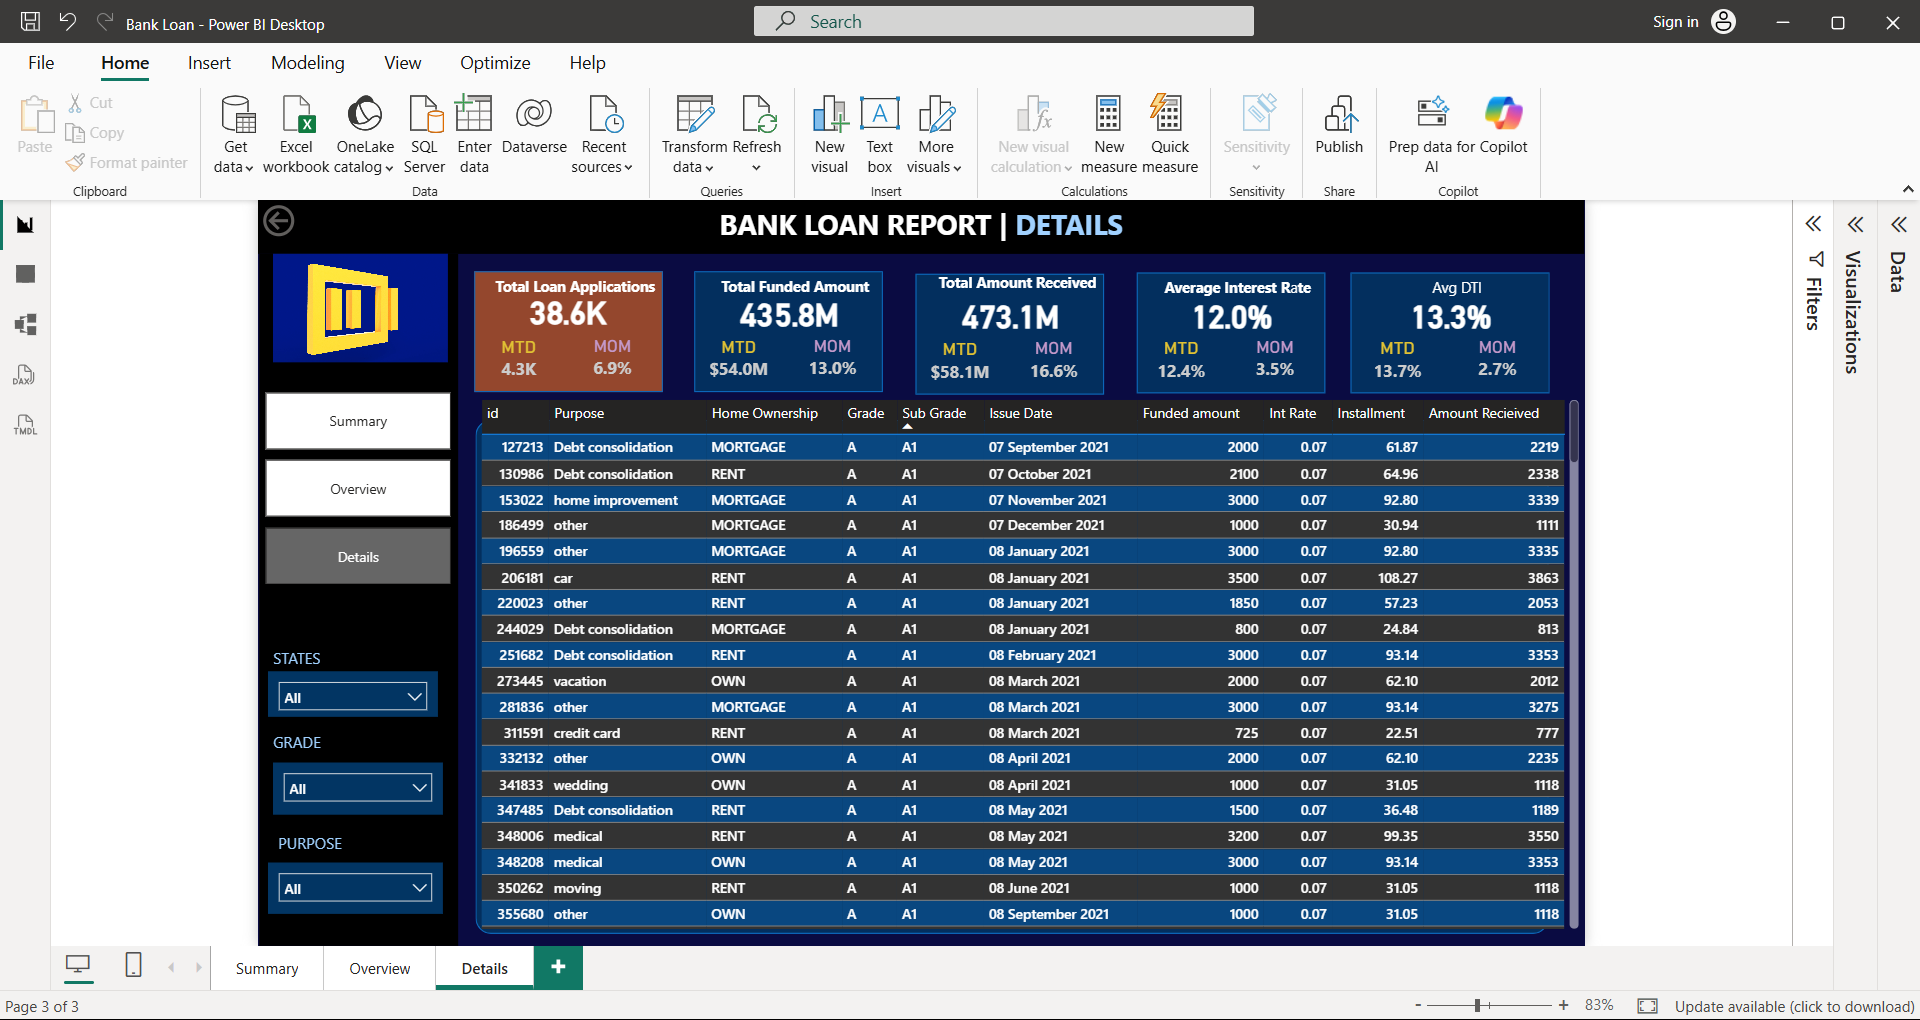

Layout of this report page (visuals, bound fields, positions):
{"tool":"powerbi","page":{"name":"Details","canvas":[1280,720],"ordinal":2},"visuals":[{"type":"shape","box":[0,0,1280.3,52.1],"z":0},{"type":"shape","box":[208.6,68.6,182,116.6],"z":0,"group":"g1"},{"type":"shape","box":[421.6,68.6,182,116.6],"z":0,"group":"g2"},{"type":"shape","box":[847.7,70,182,116.6],"z":0,"group":"g4"},{"type":"shape","box":[1053.9,70,192.3,116.6],"z":0,"group":"g5"},{"type":"shape","box":[634.7,71.4,182,116.6],"z":0,"group":"g3"},{"type":"shape","box":[1.4,52.1,192.1,668.3],"z":1000},{"type":"card","fields":{"Values":["bank_loan_data.Total Loan Applications"]},"box":[234.2,75.5,130.8,63.1],"z":1000,"group":"g1"},{"type":"card","fields":{"Values":["bank_loan_data.TOTAL FUNDED AMOUNT"]},"box":[442.7,81.5,142.7,54.9],"z":1000,"group":"g2"},{"type":"card","fields":{"Values":["bank_loan_data.AVG INTEREST RATE"]},"box":[868.8,82.9,142.7,54.9],"z":1000,"group":"g4"},{"type":"card","fields":{"Values":["bank_loan_data.Total Funded Amount"]},"box":[1076.2,82.9,150.8,54.9],"z":1000,"group":"g5"},{"type":"card","fields":{"Values":["bank_loan_data.TOTAL RECIEVED AMOUNT"]},"box":[655.8,84.2,142.7,54.9],"z":1000,"group":"g3"},{"type":"textbox","box":[629.1,65.6,208.9,35],"z":2000,"group":"g3"},{"type":"group","id":"g1","title":"Group 1","box":[208.6,68.6,194.9,116.6],"z":2000},{"type":"textbox","box":[208.6,68.6,194.9,38.4],"z":2000,"group":"g1"},{"type":"textbox","box":[421.6,68.6,194.9,38.4],"z":2000,"group":"g2"},{"type":"textbox","box":[847.7,70,194.9,38.4],"z":2000,"group":"g4"},{"type":"textbox","box":[1053.9,70,205.8,38.4],"z":2000,"group":"g5"},{"type":"group","id":"g2","title":"Group 1","box":[421.6,68.6,194.9,116.6],"z":3000},{"type":"card","title":"MTD","fields":{"Values":["bank_loan_data.MTD LOAN APPLICATIONS"]},"box":[208.6,131.7,85.9,45.3],"z":3000,"group":"g1"},{"type":"card","title":"MTD","fields":{"Values":["bank_loan_data.MTD FUNDED AMOUNT"]},"box":[421.6,131.7,85.9,45.3],"z":3000,"group":"g2"},{"type":"card","title":"MTD","fields":{"Values":["bank_loan_data.MTD AVG INT RATE"]},"box":[847.7,133.1,85.9,45.3],"z":3000,"group":"g4"},{"type":"card","title":"MTD","fields":{"Values":["bank_loan_data.MTD AVG DTI"]},"box":[1053.9,133.1,90.7,45.3],"z":3000,"group":"g5"},{"type":"card","title":"MTD","fields":{"Values":["bank_loan_data.MTD TOTAL Recieved  AMOUNT"]},"box":[634.7,134.5,85.9,45.3],"z":3000,"group":"g3"},{"type":"group","id":"g3","title":"Group 1","box":[629.1,65.6,208.9,122.4],"z":4000},{"type":"card","title":"MOM","fields":{"Values":["bank_loan_data.MOM LOAN APPLICATIONS"]},"box":[299.6,130.3,85.9,45.3],"z":4000,"group":"g1"},{"type":"card","title":"MOM","fields":{"Values":["bank_loan_data.MOM FUNDED AMOUNT"]},"box":[512.6,130.3,85.9,45.3],"z":4000,"group":"g2"},{"type":"card","title":"MOM","fields":{"Values":["bank_loan_data.MOM AVG INT T"]},"box":[938.7,131.7,85.9,45.3],"z":4000,"group":"g4"},{"type":"card","title":"MOM","fields":{"Values":["bank_loan_data.MOM AVG DTI"]},"box":[1150,131.7,90.7,45.3],"z":4000,"group":"g5"},{"type":"card","title":"MOM","fields":{"Values":["bank_loan_data.MOM received AMOUNT"]},"box":[725.7,133.1,85.9,45.3],"z":4000,"group":"g3"},{"type":"group","id":"g4","title":"Group 1","box":[847.7,70,194.9,116.6],"z":5000},{"type":"group","id":"g5","title":"Group 1","box":[1053.9,70,205.8,116.6],"z":6000},{"type":"actionButton","box":[0,0,100,40],"z":7000},{"type":"slicer","fields":{"Values":["bank_loan_data.address_state"]},"box":[9.6,455,164,43.7],"z":8000},{"type":"textbox","box":[9.6,427.7,87.4,49.2],"z":9000},{"type":"textbox","box":[9.7,507.9,103.8,45.8],"z":10000},{"type":"shape","box":[210.4,211.8,1035.7,496],"z":11000},{"type":"slicer","fields":{"Values":["bank_loan_data.grade"]},"box":[15,542.4,164,50.6],"z":12000},{"type":"slicer","fields":{"Values":["bank_loan_data.purpose"]},"box":[9.6,639.5,168.8,49.4],"z":13000},{"type":"textbox","box":[14.5,605.6,85.7,49.5],"z":14000},{"type":"tableEx","fields":{"Values":["bank_loan_data.id","bank_loan_data.purpose","bank_loan_data.home_ownership","bank_loan_data.grade","bank_loan_data.sub_grade","bank_loan_data.issue_date","bank_loan_data.Total funded amount","Sum(bank_loan_data.int_rate)","Sum(bank_loan_data.installment)","bank_loan_data.Total Received Amount"]},"box":[209.9,112.2,1037.5,486.2],"z":15000},{"type":"pageNavigator","box":[7.2,185.8,179.8,187],"z":16000},{"type":"textbox","box":[440.5,0,481.6,52.1],"z":17000},{"type":"image","box":[14.5,51.9,168.9,105],"z":18000}]}

Visuals, with their boxes on the page's 1280x720 design canvas (x1, y1, x2, y2). These are canvas units, not pixel positions in the 1920x1020 screenshot, which may show the page scaled, cropped or inside an application window:
shape: 0 0 1280 52
shape: 209 69 391 185
shape: 422 69 604 185
shape: 848 70 1030 187
shape: 1054 70 1246 187
shape: 635 71 817 188
shape: 1 52 194 720
card - bank_loan_data.Total Loan Applications: 234 76 365 139
card - bank_loan_data.TOTAL FUNDED AMOUNT: 443 82 585 136
card - bank_loan_data.AVG INTEREST RATE: 869 83 1012 138
card - bank_loan_data.Total Funded Amount: 1076 83 1227 138
card - bank_loan_data.TOTAL RECIEVED AMOUNT: 656 84 798 139
textbox: 629 66 838 101
"Group 1" group: 209 69 404 185
textbox: 209 69 404 107
textbox: 422 69 616 107
textbox: 848 70 1043 108
textbox: 1054 70 1260 108
"Group 1" group: 422 69 616 185
"MTD" card: 209 132 294 177
"MTD" card: 422 132 508 177
"MTD" card: 848 133 934 178
"MTD" card: 1054 133 1145 178
"MTD" card: 635 134 721 180
"Group 1" group: 629 66 838 188
"MOM" card: 300 130 386 176
"MOM" card: 513 130 598 176
"MOM" card: 939 132 1025 177
"MOM" card: 1150 132 1241 177
"MOM" card: 726 133 812 178
"Group 1" group: 848 70 1043 187
"Group 1" group: 1054 70 1260 187
actionButton: 0 0 100 40
slicer - bank_loan_data.address_state: 10 455 174 499
textbox: 10 428 97 477
textbox: 10 508 114 554
shape: 210 212 1246 708
slicer - bank_loan_data.grade: 15 542 179 593
slicer - bank_loan_data.purpose: 10 640 178 689
textbox: 14 606 100 655
tableEx - bank_loan_data.id x bank_loan_data.purpose: 210 112 1247 598
pageNavigator: 7 186 187 373
textbox: 440 0 922 52
image: 14 52 183 157
